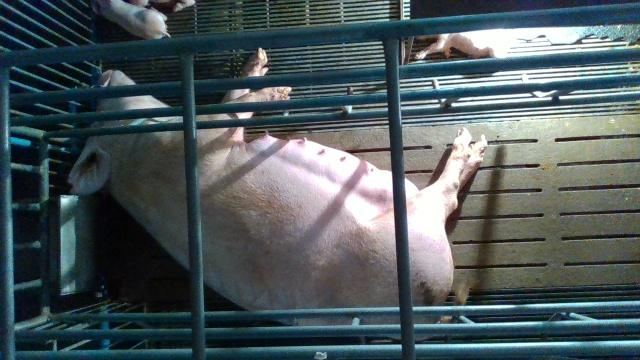piglet: (93, 0, 171, 39)
sow-sleep-lactate: (69, 47, 490, 342)
